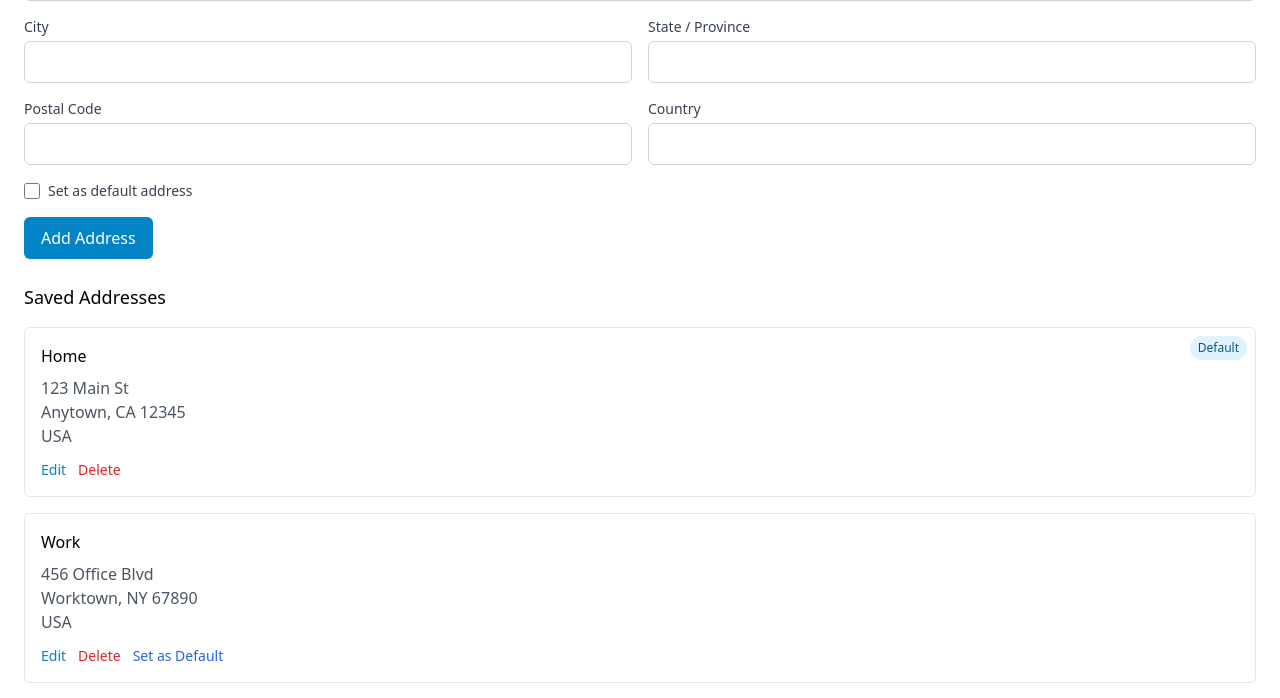
Test: AddressManager Component › handles setting an address as default
(page scrolled)
Click "Set as Default" button for the second address
Click the button "Set as Default" at (178, 656), box [133,646,223,666]
(page scrolled)
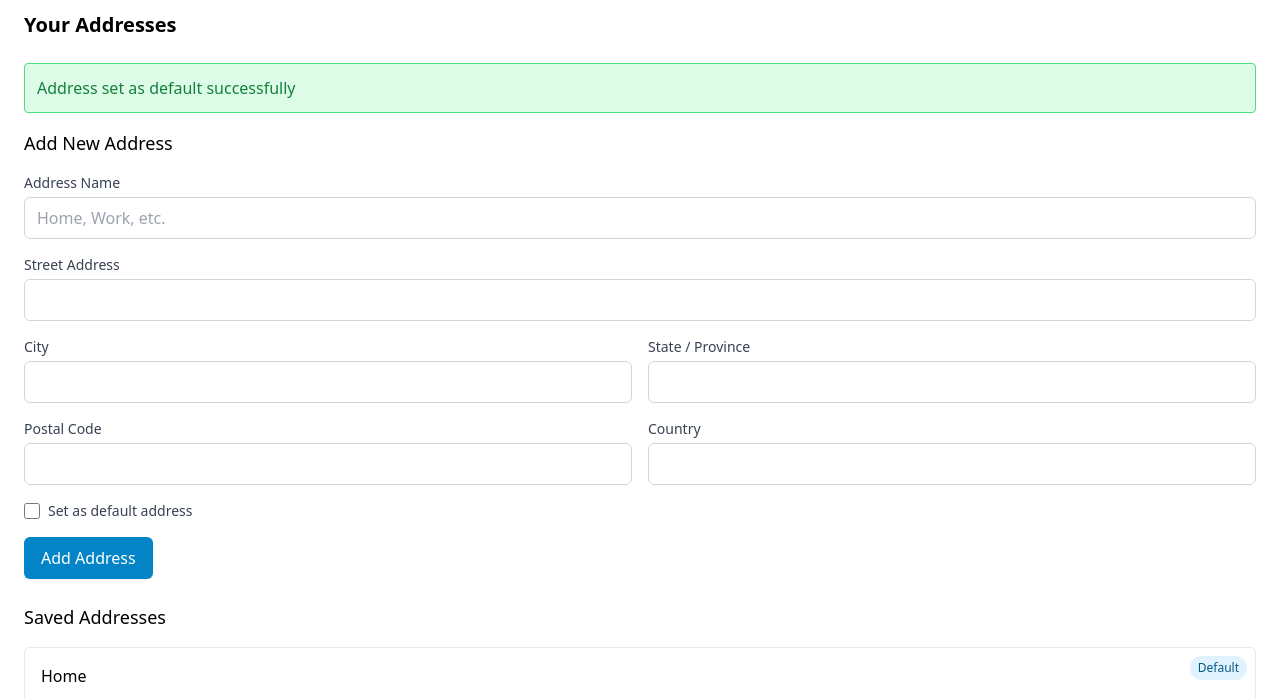
Check: the text "Address set as default successfully" is shown, box [24,63,1256,113]
